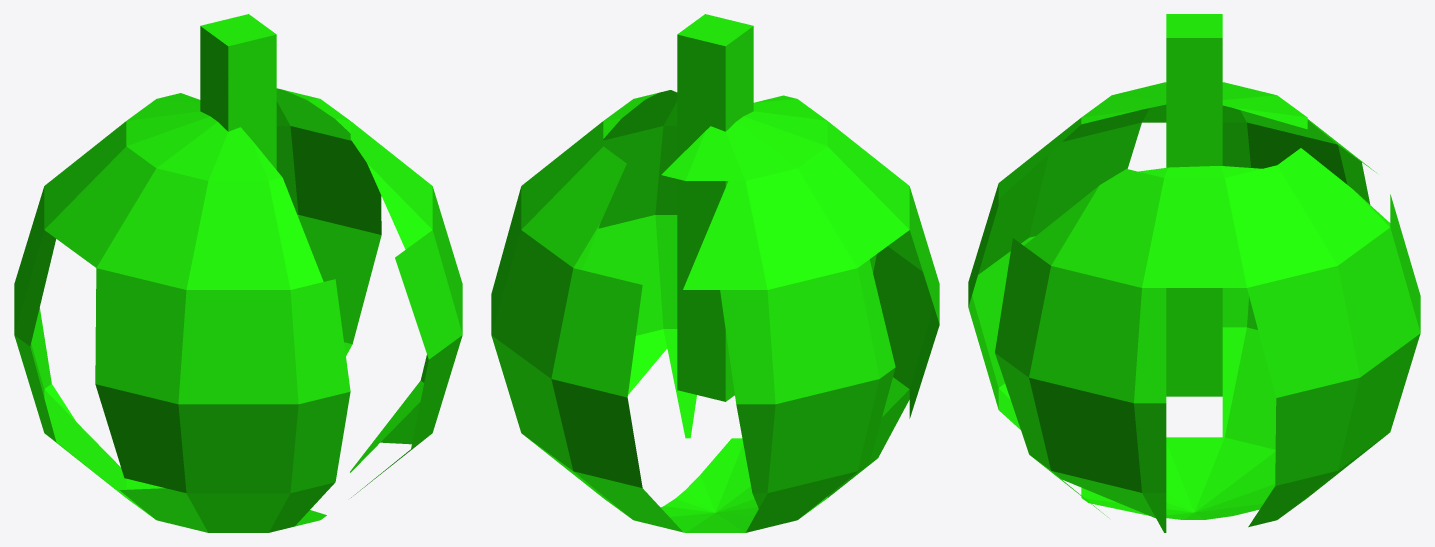
The model's file is Apple.obj.
The picture shows the model from 3 angles, left to right: view 1: azimuth 30°, elevation 25°; view 2: azimuth 150°, elevation 25°; view 3: azimuth 270°, elevation 25°; orthographic projection.
Visible parts, largest first — view 1: sphere; view 2: sphere; view 3: sphere.
Boxes of the visible parts, bbox=[...] form: sphere: bbox=[14, 14, 462, 532]; sphere: bbox=[491, 14, 939, 532]; sphere: bbox=[968, 14, 1420, 532].
Size of the model in its own units: 1 by 1.19 by 1.
